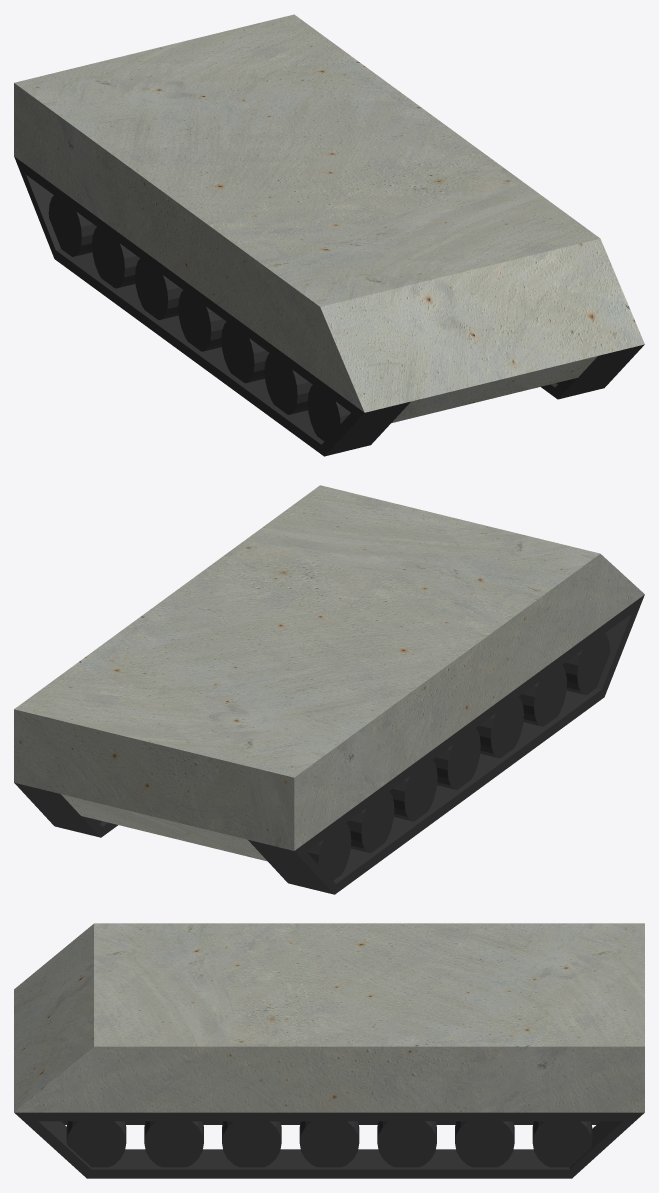
Rendered from body.obj.
The picture shows the model from 3 angles, top to bottom: view 1: azimuth 30°, elevation 25°; view 2: azimuth 150°, elevation 25°; view 3: azimuth 270°, elevation 25°; orthographic projection. The views are drawn at different scales.
Size of the model in its own units: 6 by 3 by 13.
4 materials, 4 textured.
